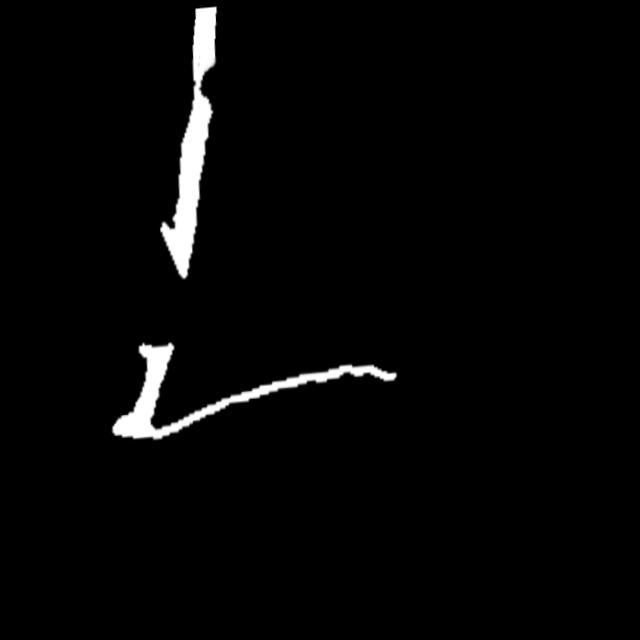sl: (184, 59, 223, 121)
